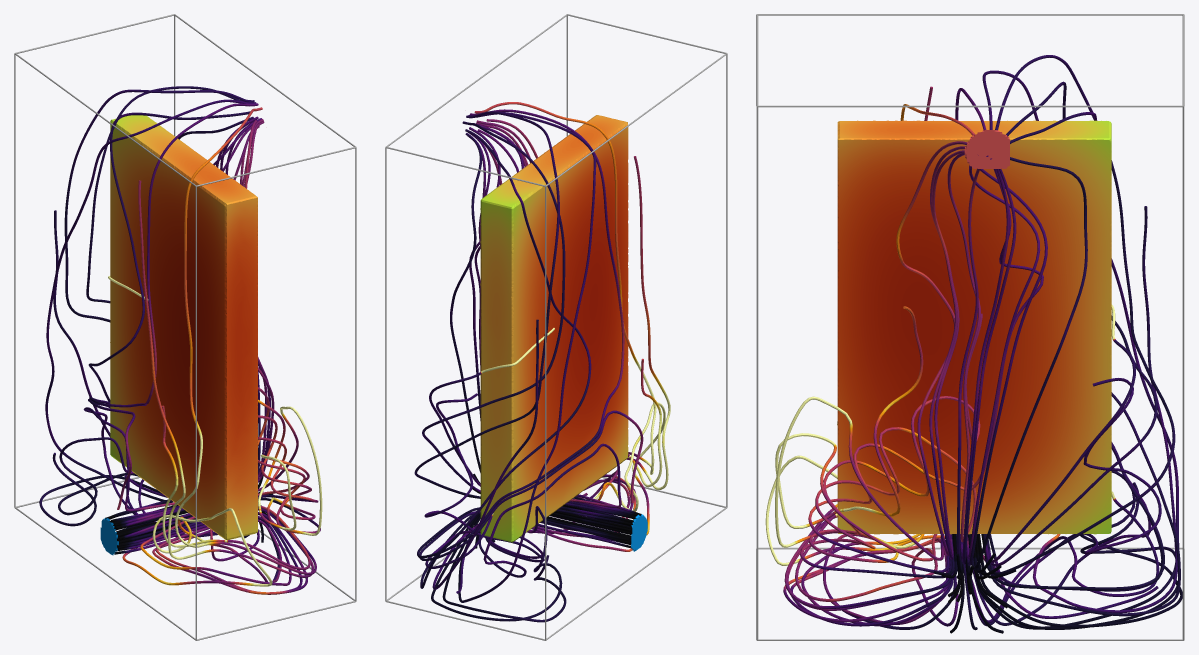
The model's file is ester-server.glb.
3 views of the same model, side by side, from view 1: azimuth 30°, elevation 25°; view 2: azimuth 150°, elevation 25°; view 3: azimuth 270°, elevation 25° (orthographic). The views are drawn at different scales.
Visible parts, largest first — view 1: Renderer Node; view 2: Renderer Node; view 3: Renderer Node.
Part boxes in pixels (x1,y1,x2,y2): Renderer Node: (14,14,356,640); Renderer Node: (385,14,727,640); Renderer Node: (756,14,1184,640).
Size of the model in its own units: 0.2153 by 0.5827 by 0.4218.
5 materials, 2 textured.
